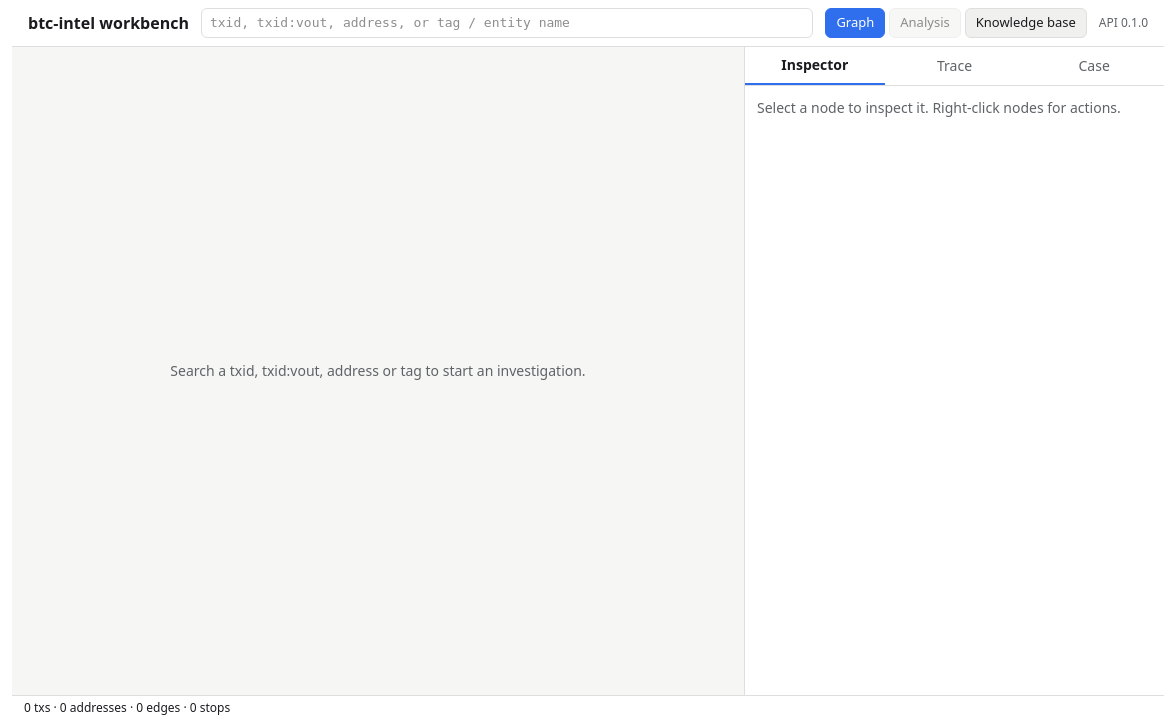
Test case: renders the workbench with graph view and tabs
Expected: the text "btc-intel workbench" is shown, x1=28 y1=11 x2=189 y2=35
Expected: the element with test id "graph-canvas" is shown, x1=12 y1=46 x2=744 y2=695
Click the tab "Trace" at point(955, 66), box x1=885 y1=46 x2=1024 y2=84
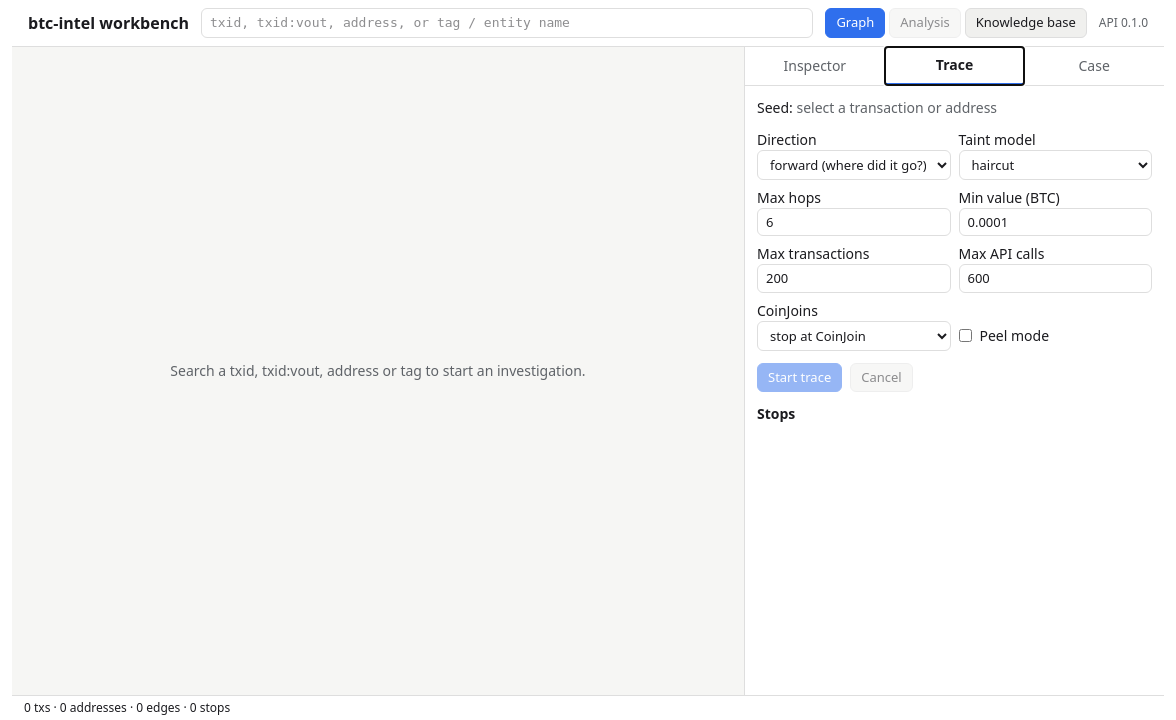
Expected: the text "API 0.1.0" is shown, x1=1099 y1=15 x2=1148 y2=31
Now the button "Start trace" is shown, box x1=757 y1=363 x2=842 y2=392
